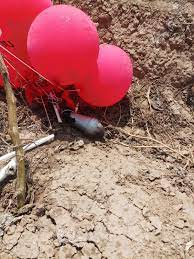Balloon: (27, 5, 100, 81), (75, 42, 132, 106)
